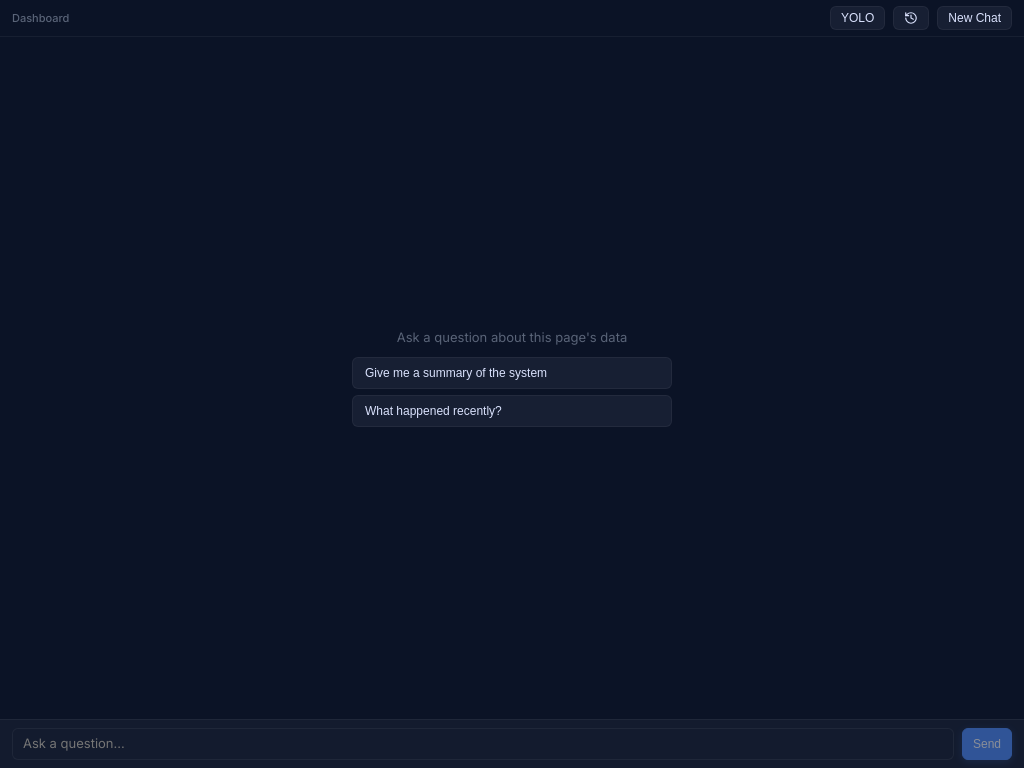
Scenario: AiChatPanel › adds a user message to the messages list after sending
This screenshot has width=1024, height=768.
Type "Test message" into the text box with test id "ai-chat-input" at (483,744), box [12,728,954,760]
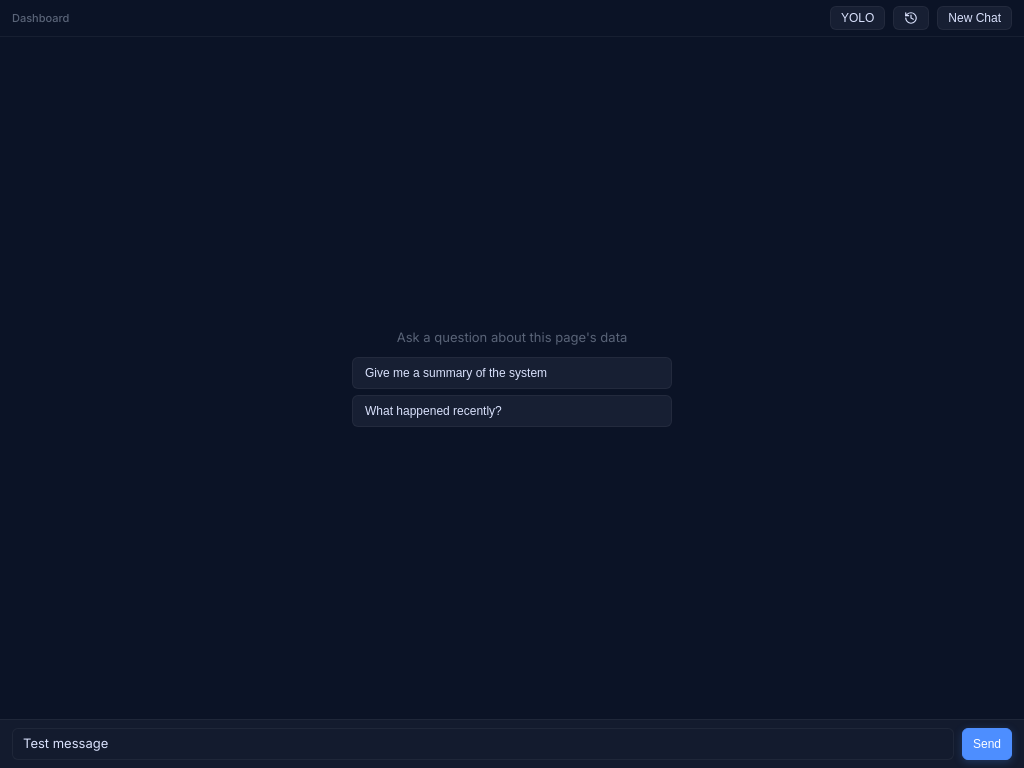
Click the button with test id "ai-chat-send-btn" at (987,744), box [962,728,1012,760]
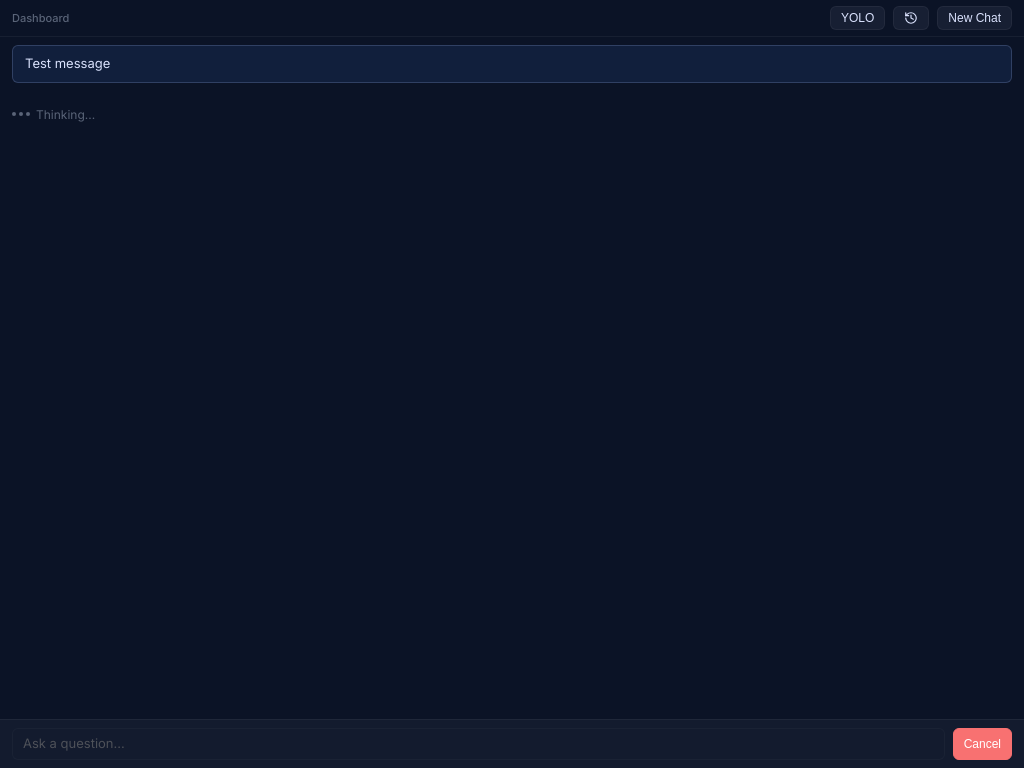
Result: the element with test id "ai-chat-message-0" is shown at [12,45,1012,82]
Result: the element with test id "ai-chat-message-0" reads "Test message" at [25,55,110,71]
